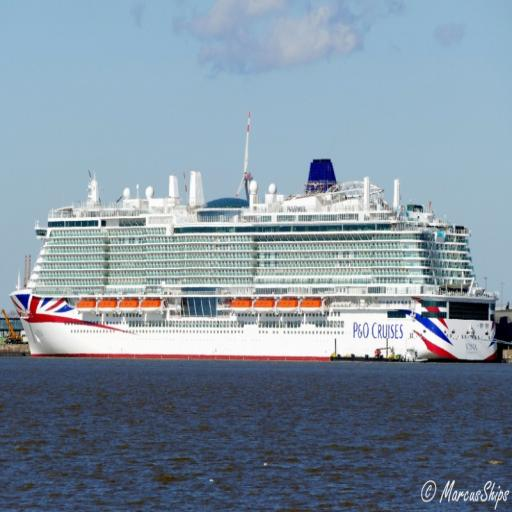cruises: (10, 154, 504, 371)
